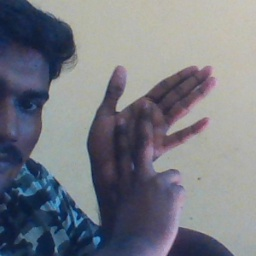N: (81, 59, 223, 219)
